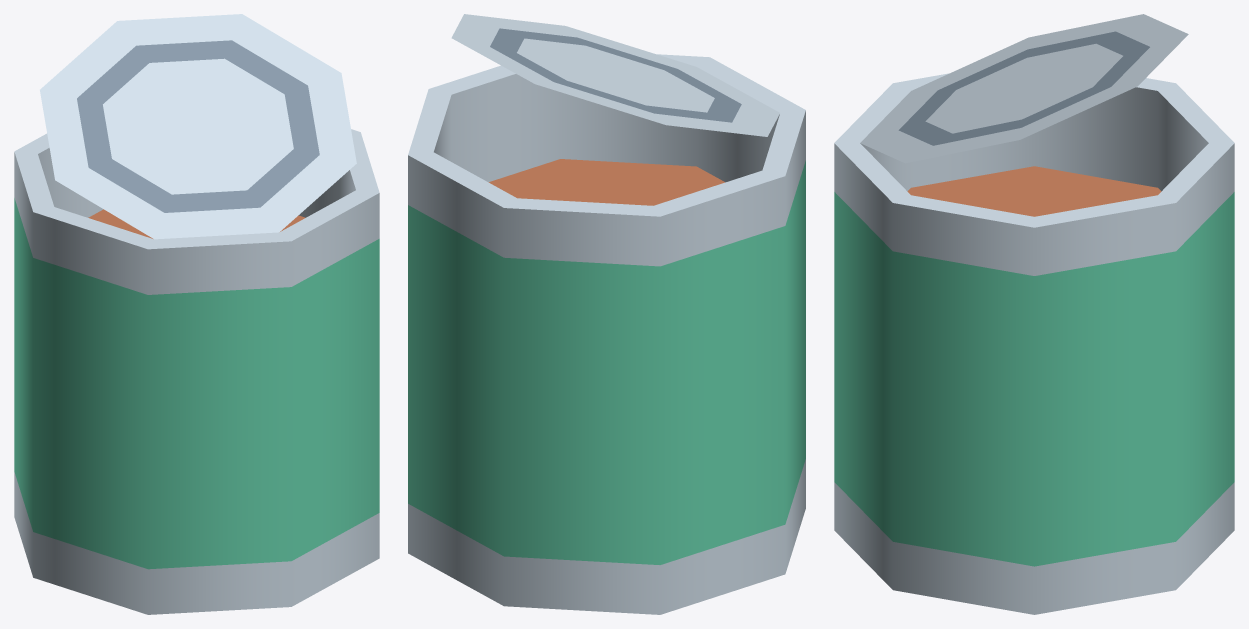
The model's file is Can Open.glb.
The picture shows the model from 3 angles, left to right: view 1: azimuth 30°, elevation 25°; view 2: azimuth 150°, elevation 25°; view 3: azimuth 270°, elevation 25°; orthographic projection. The views are drawn at different scales.
Parts seen in each view (by area): view 1: Can Open; view 2: Can Open; view 3: Can Open.
Part boxes in pixels (x1=…): Can Open: x1=14, y1=14, x2=379, y2=614; Can Open: x1=408, y1=14, x2=805, y2=614; Can Open: x1=834, y1=14, x2=1234, y2=614.
Size of the model in its own units: 0.132 by 0.1791 by 0.132.
